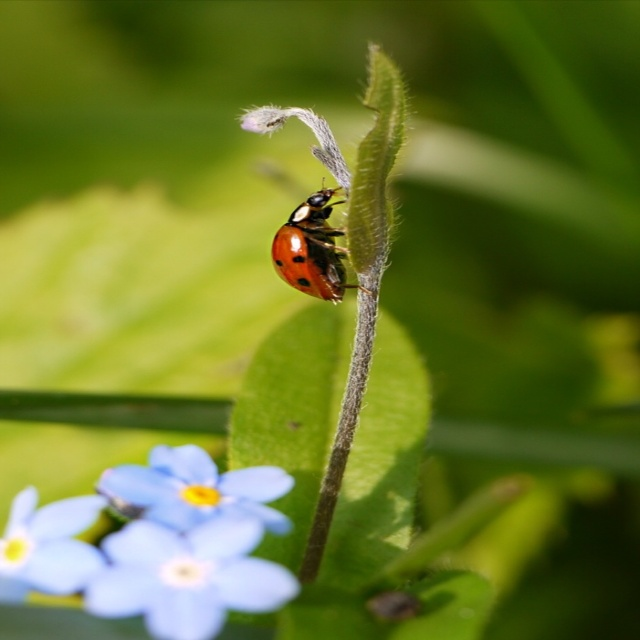Ladybug: (270, 173, 365, 301)
